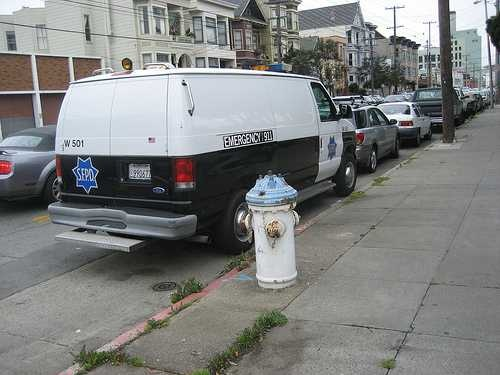Ambulance: (38, 57, 365, 246)
